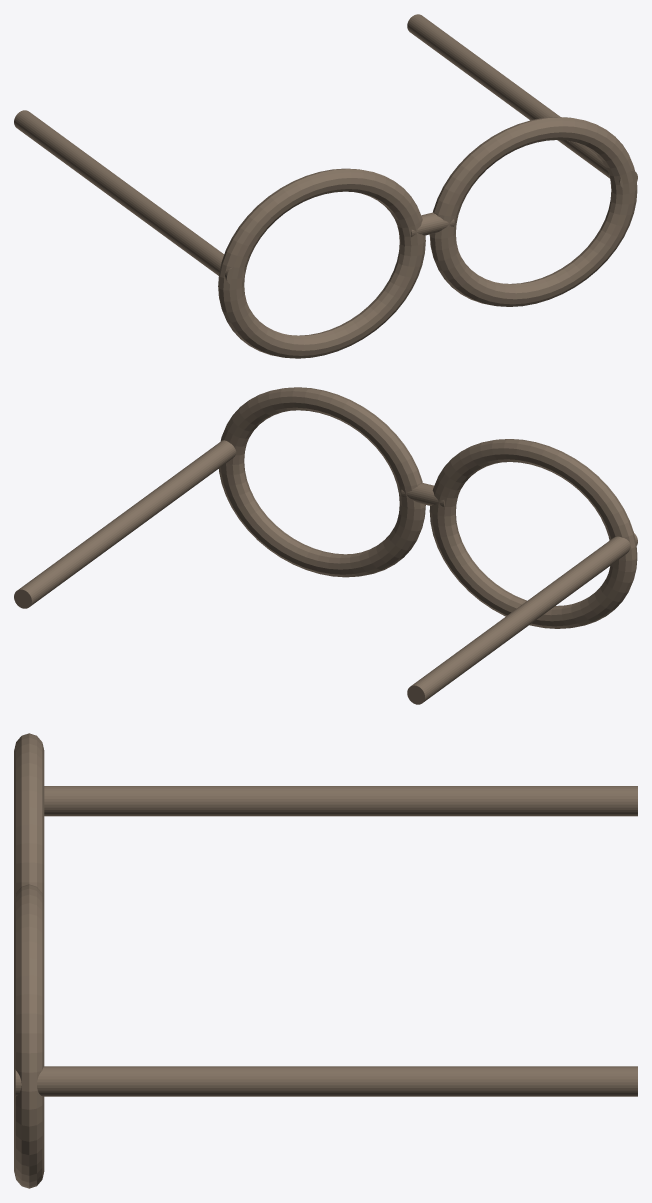
Rendered from glasses_square.glb.
3 renders of one model, top to bottom at view 1: azimuth 30°, elevation 25°; view 2: azimuth 150°, elevation 25°; view 3: azimuth 270°, elevation 25°, orthographic. The views are drawn at different scales.
Visible parts, largest first — view 1: glasses_square; view 2: glasses_square; view 3: glasses_square.
Boxes of the visible parts, box(x1,y1,x2,y2) form: glasses_square: box(14, 14, 637, 358); glasses_square: box(14, 387, 637, 704); glasses_square: box(14, 733, 637, 1188).
Bounding box in the file's own units: 0.1302 × 0.0544 × 0.1153.
